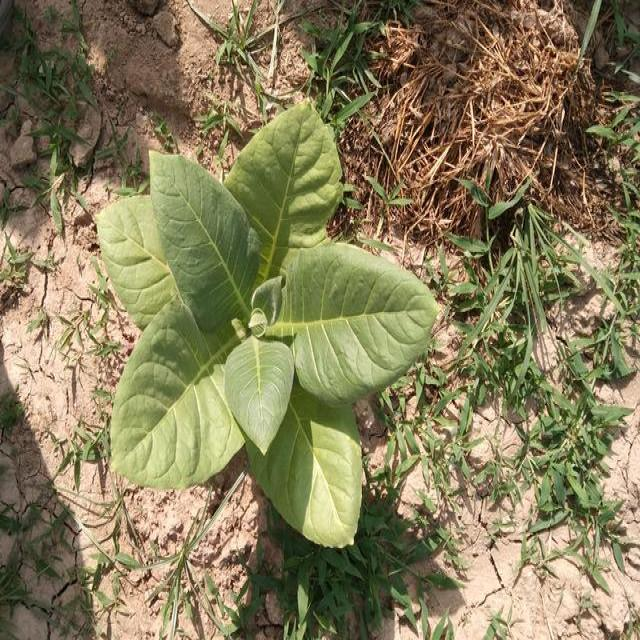crop: (89, 95, 435, 564)
